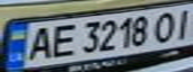1: (115, 16, 136, 50)
2: (100, 17, 121, 52)
3: (78, 19, 103, 55)
8: (130, 12, 154, 47)
A: (21, 24, 57, 62)
E: (45, 21, 78, 59)
I: (169, 6, 193, 39)
O: (148, 9, 181, 43)
